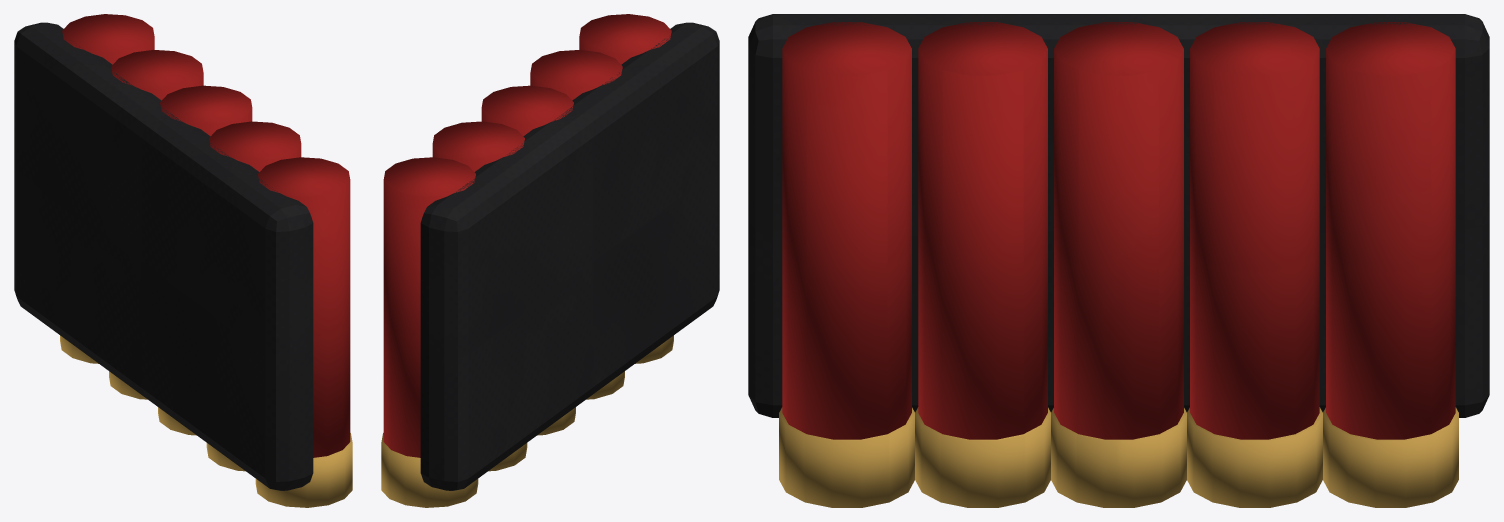
File: bullet_loops.glb
3 renders of one model, left to right at view 1: azimuth 30°, elevation 25°; view 2: azimuth 150°, elevation 25°; view 3: azimuth 270°, elevation 25°, orthographic. The views are drawn at different scales.
Parts seen in each view (by area): view 1: sleeve, shell0, shell2, shell1, shell4, shell3, base0, base4, base1, base3, base2; view 2: sleeve, shell4, shell2, shell3, shell0, shell1, base4, base0, base3, base1, base2; view 3: shell1, shell2, shell3, shell0, shell4, sleeve, base1, base3, base0, base4, base2.
Boxes of the visible parts, x1,y1,x2,y2 form: sleeve: (14, 22, 313, 490); shell0: (258, 157, 350, 457); shell2: (160, 85, 252, 136); shell1: (209, 121, 301, 171); shell4: (62, 14, 154, 64); shell3: (111, 50, 203, 100); base0: (255, 433, 352, 507); base4: (60, 335, 98, 363); base1: (206, 443, 245, 471); base3: (109, 371, 147, 399); base2: (158, 407, 196, 435); sleeve: (420, 22, 719, 490); shell4: (383, 157, 475, 457); shell2: (481, 85, 573, 136); shell3: (432, 121, 524, 171); shell0: (579, 14, 671, 64); shell1: (530, 50, 622, 100); base4: (381, 433, 478, 507); base0: (635, 335, 673, 363); base3: (488, 443, 527, 471); base1: (586, 371, 624, 399); base2: (537, 407, 575, 435); shell1: (918, 22, 1047, 439); shell2: (1054, 22, 1183, 439); shell3: (1190, 22, 1319, 439); shell0: (782, 22, 911, 439); shell4: (1326, 22, 1455, 439); sleeve: (748, 14, 1489, 417); base1: (915, 407, 1050, 507); base3: (1187, 407, 1322, 507); base0: (779, 407, 914, 507); base4: (1323, 407, 1458, 507); base2: (1051, 408, 1186, 507).
Bounding box in the file's own units: 0.0277 × 0.077 × 0.12.
3 materials, 3 textured.
